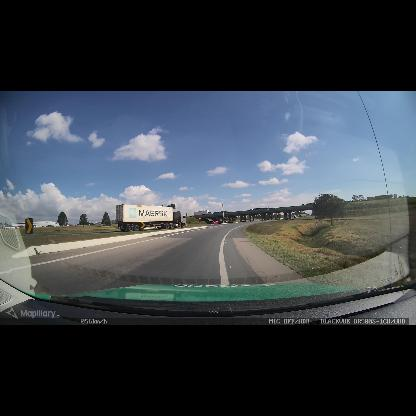R-2: (197, 217, 203, 222)
